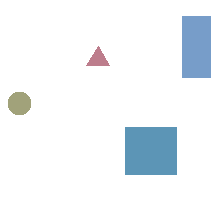circle: (8, 92, 30, 114)
rectangle: (125, 127, 176, 174), (182, 16, 210, 77)
triangle: (86, 46, 109, 65)
